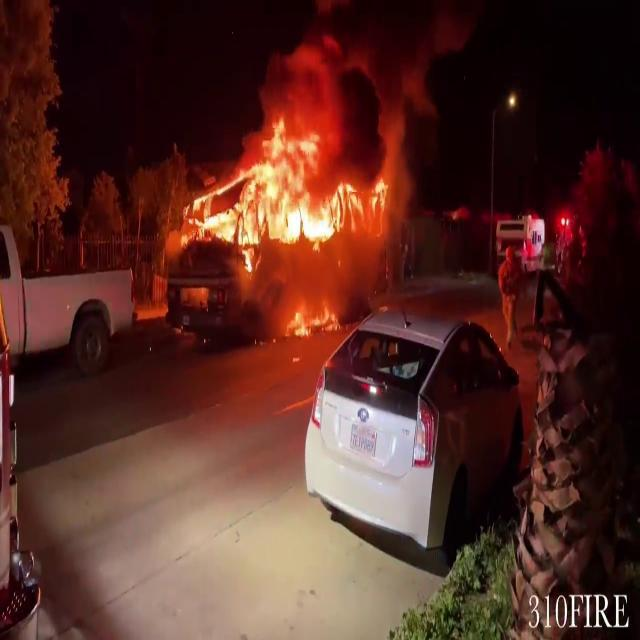Fire: (184, 110, 387, 262), (282, 296, 342, 340)
Smoke: (259, 0, 472, 165)
